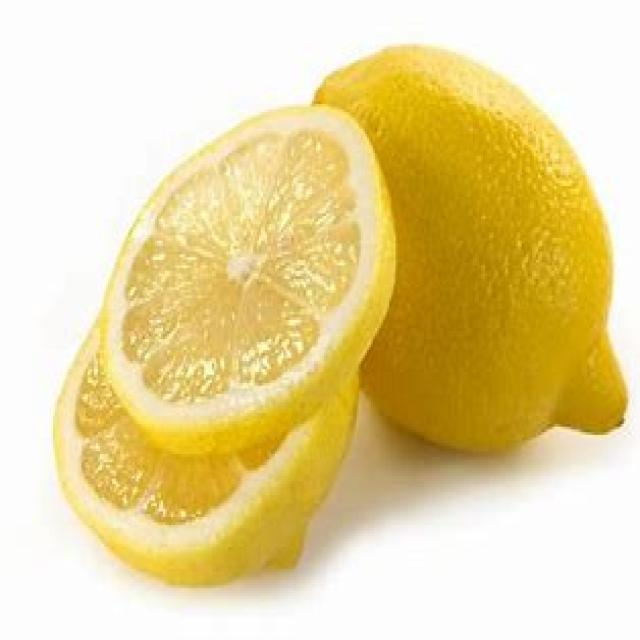lemon: (311, 34, 639, 487)
